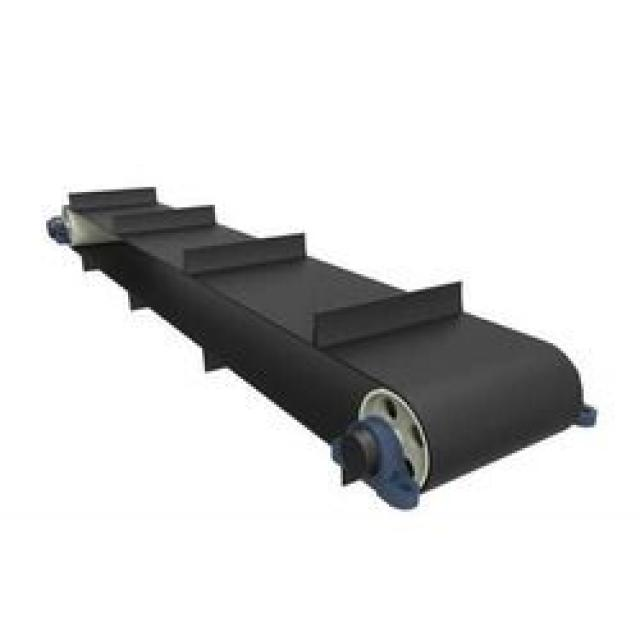conveyor: (44, 179, 605, 522)
